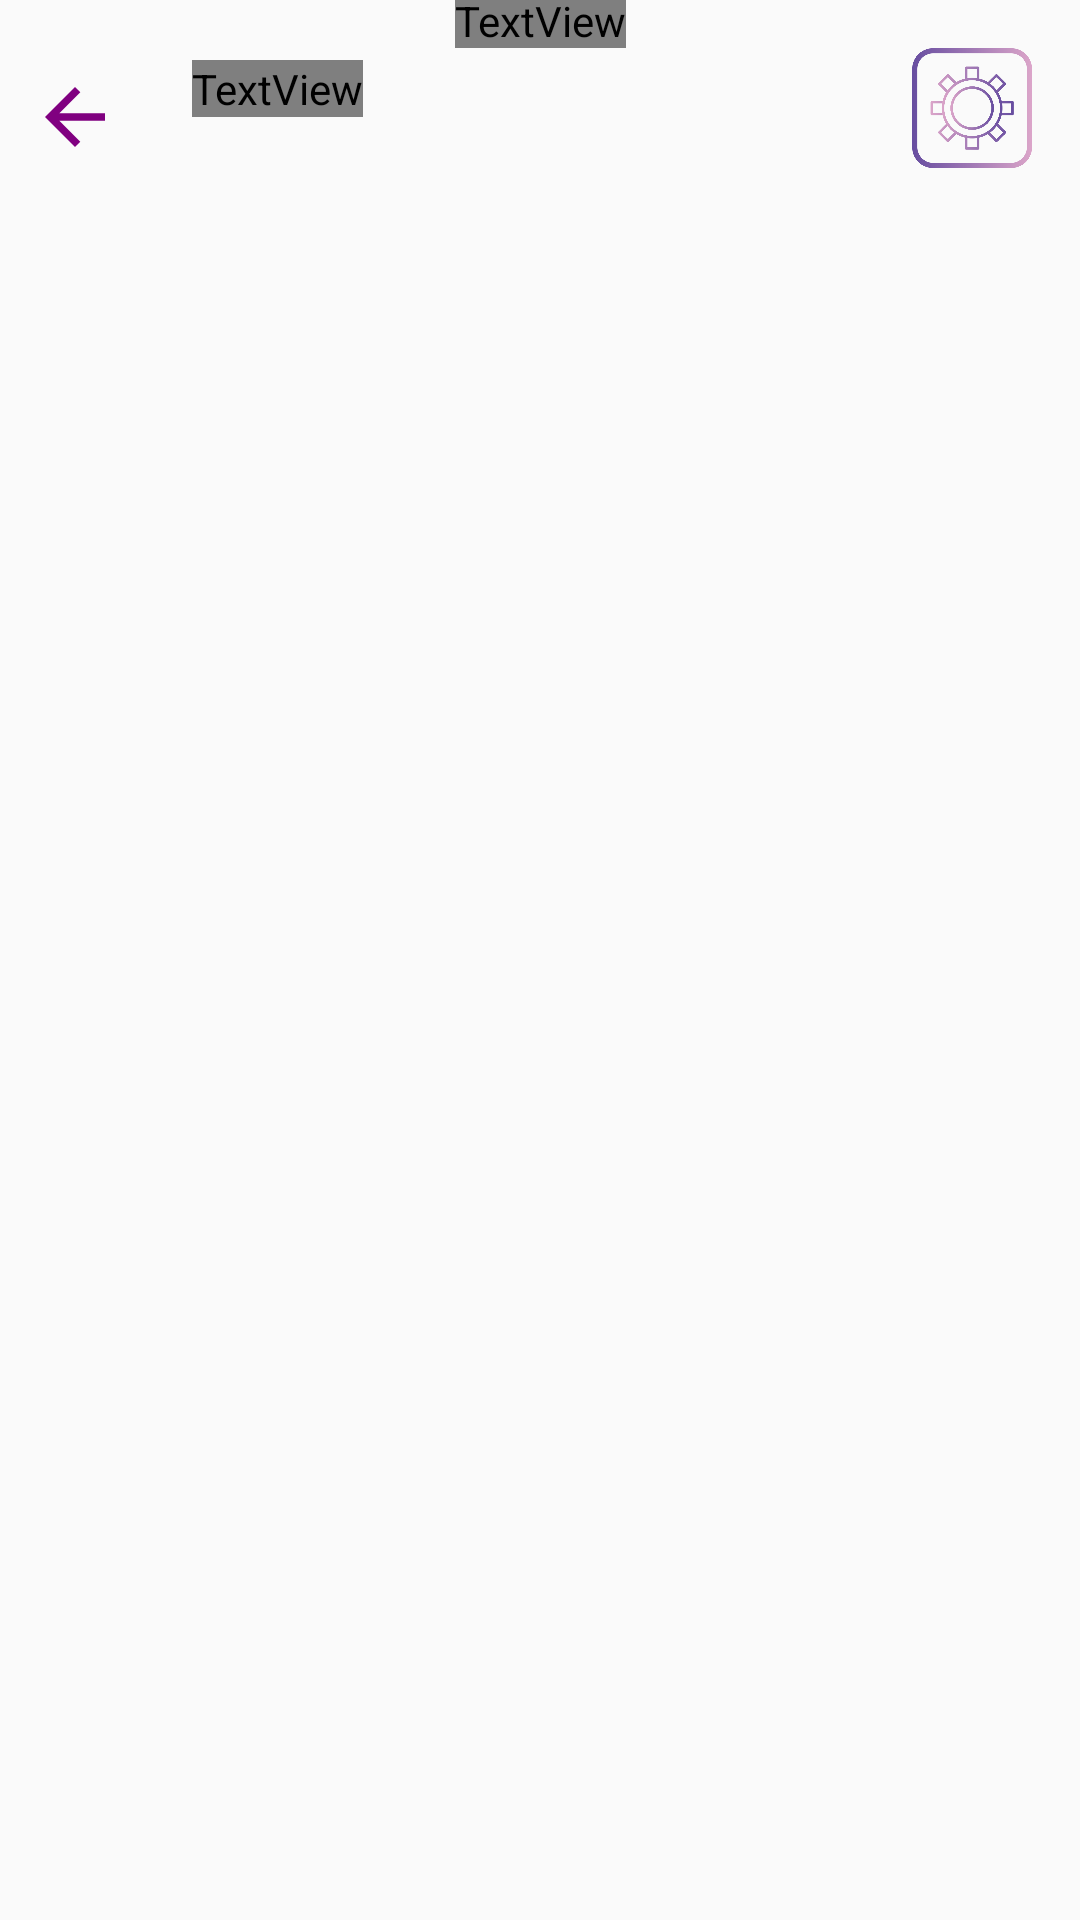

Icon bounding boxes for this 1080px x 1920px phone screenshot, format (x1, y1, x2, y2):
arrow back: (45, 87, 105, 147)
settings: (912, 48, 1032, 168)
